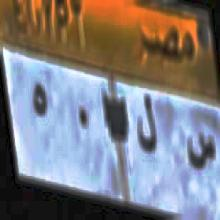0: (74, 97, 94, 141)
5: (31, 80, 48, 126)
laam: (137, 92, 157, 158)
seen: (188, 125, 216, 178)
